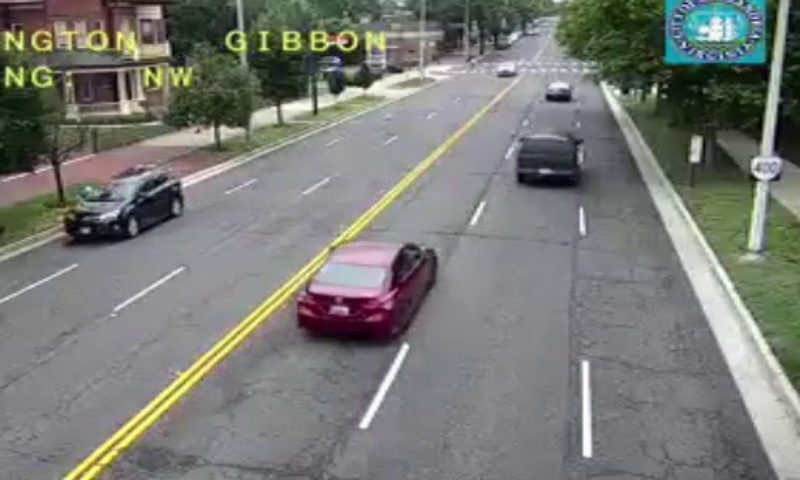car: (295, 241, 435, 337), (516, 134, 577, 182), (543, 82, 571, 101)
